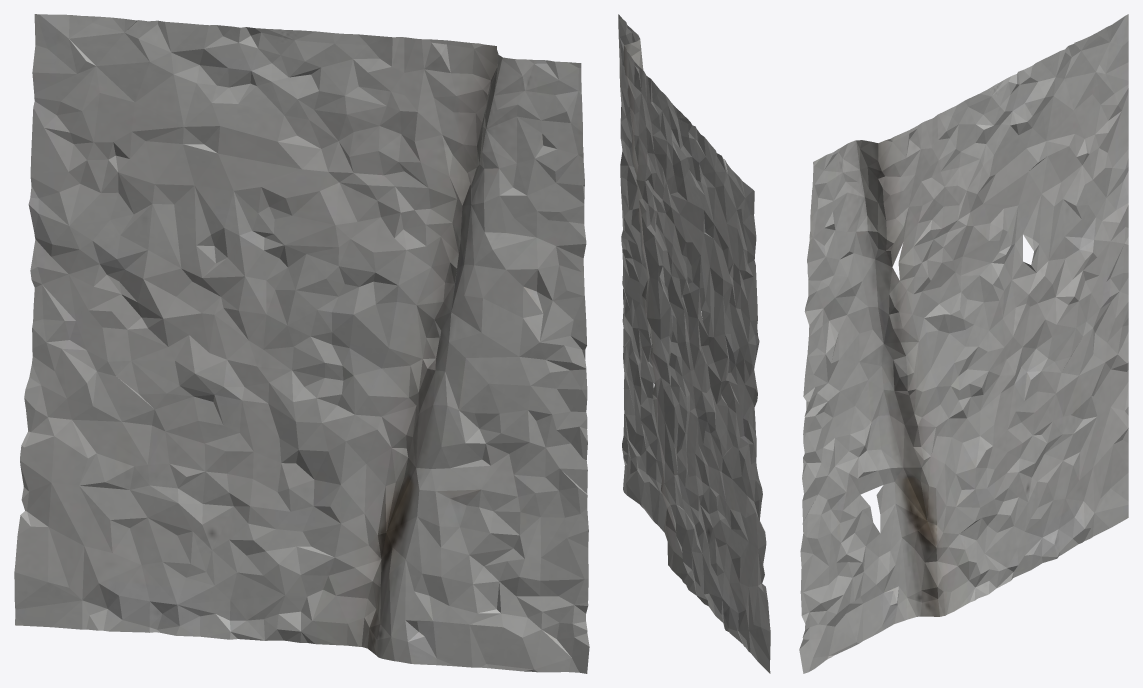
3 views of the same model, side by side, from view 1: azimuth 30°, elevation 25°; view 2: azimuth 150°, elevation 25°; view 3: azimuth 270°, elevation 25° (orthographic). The views are drawn at different scales.
Bounding box in the file's own units: 0.5489 × 0.8373 × 0.4884.
2 materials, 2 textured.
